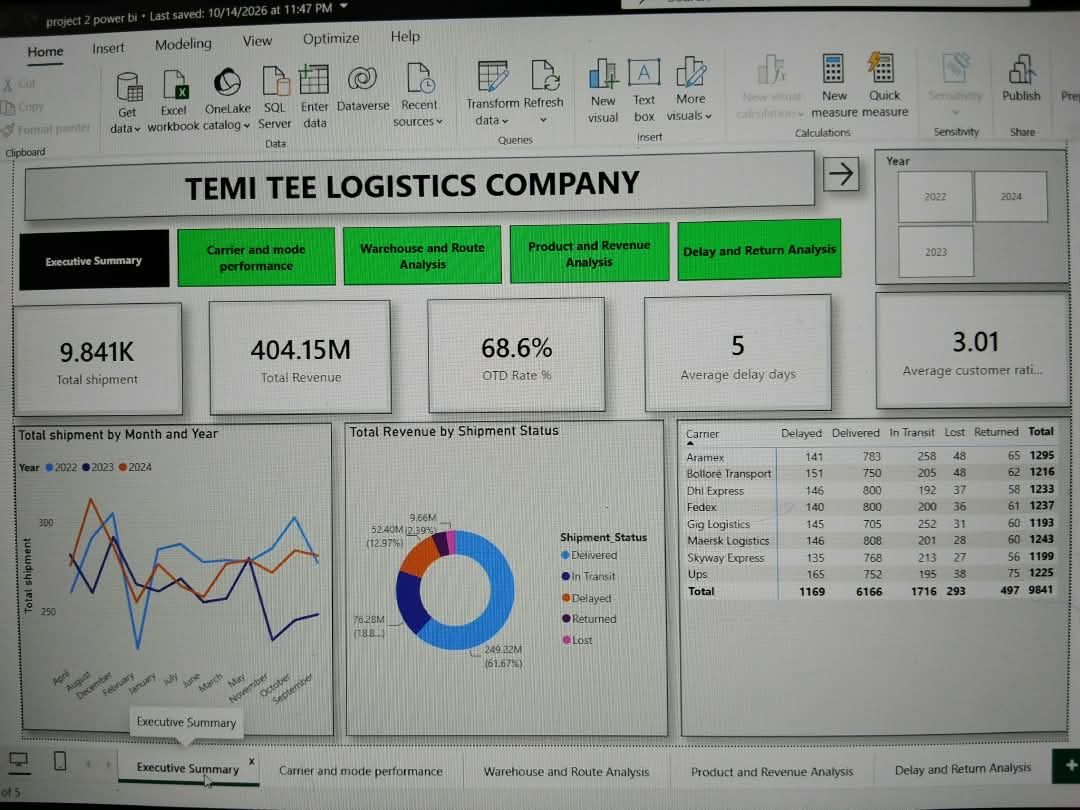

Layout of this report page (visuals, bound fields, positions):
{"tool":"powerbi","page":{"name":"Executive Summary","canvas":[1280,720],"ordinal":0},"visuals":[{"type":"cardVisual","fields":{"Data":["Raw_Data.Total shipment"]},"box":[0,182.2,215.2,137],"z":0},{"type":"cardVisual","fields":{"Data":["Raw_Data.Total Revenue"]},"box":[248.2,181,220.1,138.2],"z":1000},{"type":"cardVisual","fields":{"Data":["Raw_Data.OTD Rate %"]},"box":[513.6,181,215.2,138.2],"z":2000},{"type":"cardVisual","fields":{"Data":["Raw_Data.Average delay days"]},"box":[776.5,182.2,220.1,138.2],"z":3000},{"type":"cardVisual","fields":{"Data":["Raw_Data.Average customer rating"]},"box":[1048,181,232.3,138.2],"z":4000},{"type":"donutChart","title":"Total Revenue by Shipment Status","fields":{"Y":["Raw_Data.Total Revenue"],"Category":["Raw_Data.Shipment_Status"]},"box":[410.9,330.2,387.6,379.1],"z":5000},{"type":"pivotTable","fields":{"Rows":["Raw_Data.Carrier"],"Columns":["Raw_Data.Shipment_Status"],"Values":["Raw_Data.Total shipment"]},"box":[814.4,330.2,465.9,379.1],"z":6000},{"type":"slicer","fields":{"Values":["Raw_Data.Order_Date.Variation.Date Hierarchy.Year"]},"box":[1048,12.2,232.3,160.2],"z":7000},{"type":"lineChart","title":"Total shipment by Month and Year","fields":{"Y":["Raw_Data.Total shipment"],"Category":["Raw_Data.Month Name"],"Series":["Raw_Data.Order_Date.Variation.Date Hierarchy.Year"]},"box":[0,330.2,395,379.1],"z":8000},{"type":"textbox","box":[14.7,12.2,963.6,64.8],"z":9000},{"type":"pageNavigator","box":[8.6,92.9,1000.3,70.9],"z":10000},{"type":"actionButton","box":[988,20.8,41.6,40.4],"z":11000}]}

Visuals, with their boxes in screenshot pixels (x1, y1, x2, y2):
cardVisual - Raw_Data.Total shipment: x1=0 y1=295 x2=179 y2=409
cardVisual - Raw_Data.Total Revenue: x1=207 y1=294 x2=390 y2=409
cardVisual - Raw_Data.OTD Rate %: x1=427 y1=294 x2=606 y2=409
cardVisual - Raw_Data.Average delay days: x1=646 y1=295 x2=829 y2=410
cardVisual - Raw_Data.Average customer rating: x1=872 y1=294 x2=1065 y2=409
"Total Revenue by Shipment Status" donutChart: x1=342 y1=418 x2=664 y2=734
pivotTable - Raw_Data.Carrier x Raw_Data.Shipment_Status: x1=678 y1=418 x2=1065 y2=734
slicer - Raw_Data.Order_Date.Variation.Date Hierarchy.Year: x1=872 y1=154 x2=1065 y2=287
"Total shipment by Month and Year" lineChart: x1=0 y1=418 x2=329 y2=734
textbox: x1=12 y1=154 x2=814 y2=208
pageNavigator: x1=7 y1=221 x2=839 y2=280
actionButton: x1=822 y1=161 x2=857 y2=194
